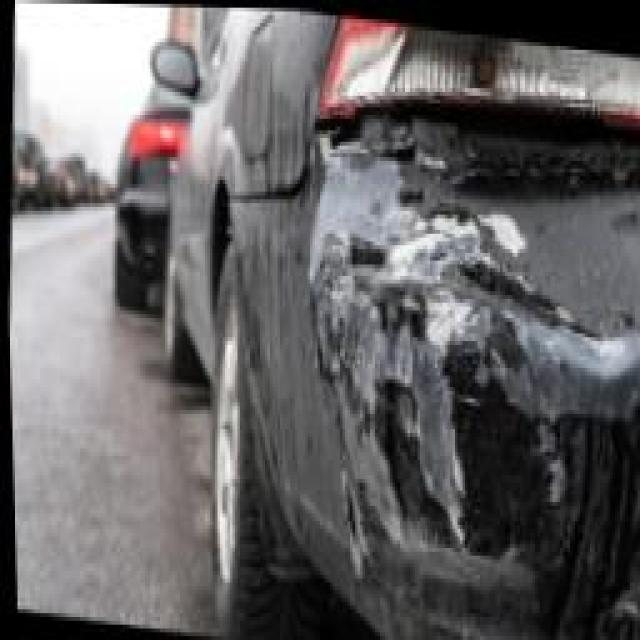Bumper: (288, 84, 640, 640)
Light: (302, 8, 640, 166)
